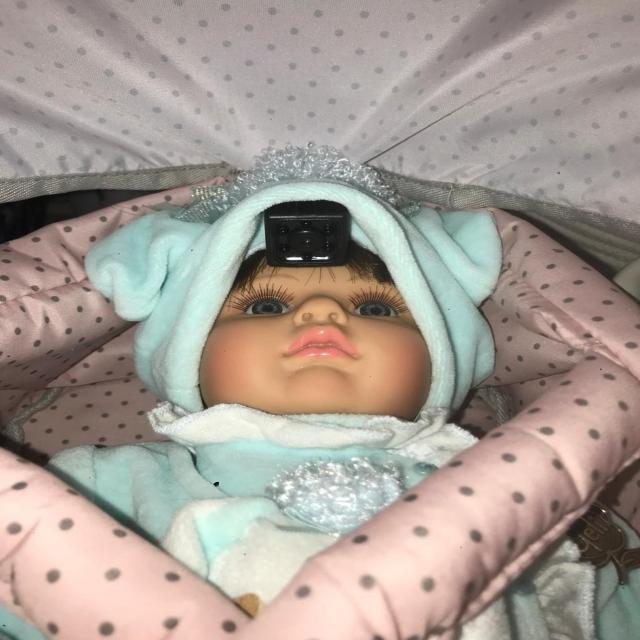hidden camera: (294, 233, 321, 252)
